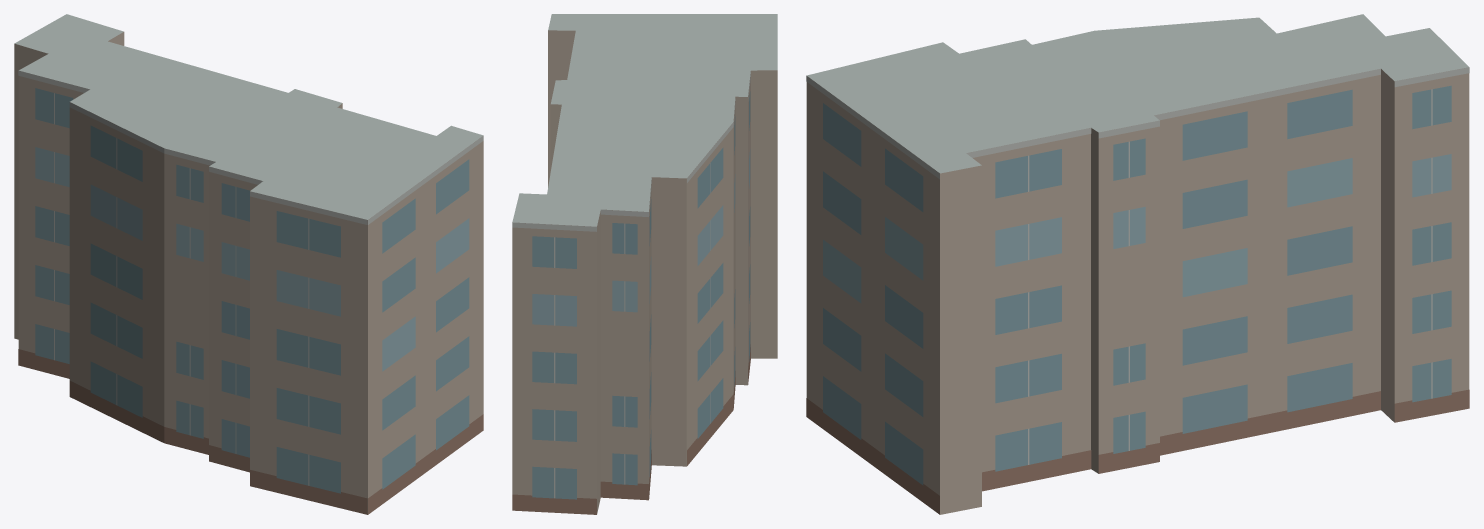
Rendered from survey-upis-32755518.glb.
The picture shows the model from 3 angles, left to right: view 1: azimuth 30°, elevation 25°; view 2: azimuth 150°, elevation 25°; view 3: azimuth 270°, elevation 25°; orthographic projection. The views are drawn at different scales.
Visible parts, largest first — view 1: survey-upis-32755518.tmp; view 2: survey-upis-32755518.tmp; view 3: survey-upis-32755518.tmp.
Part boxes in pixels (x1,y1,x2,y2): survey-upis-32755518.tmp: [14, 14, 483, 514]; survey-upis-32755518.tmp: [512, 14, 777, 514]; survey-upis-32755518.tmp: [806, 14, 1469, 514].
Bounding box in the file's own units: 13.78 × 13.75 × 24.21.
